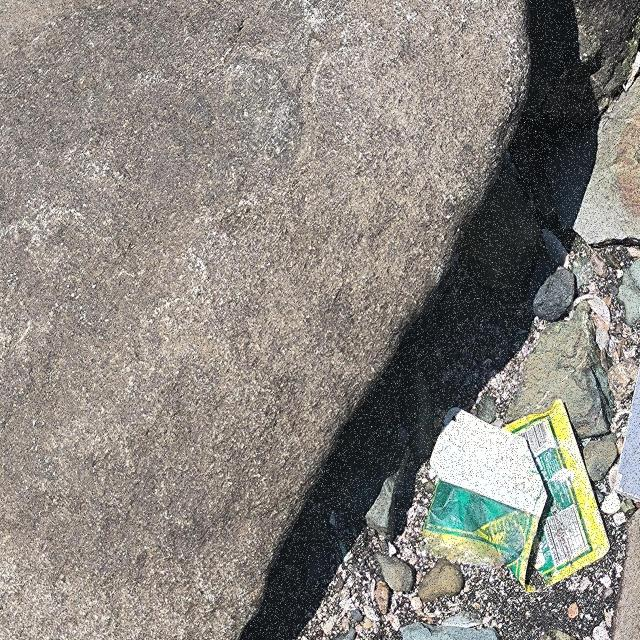plastic_waste: (426, 401, 613, 597)
